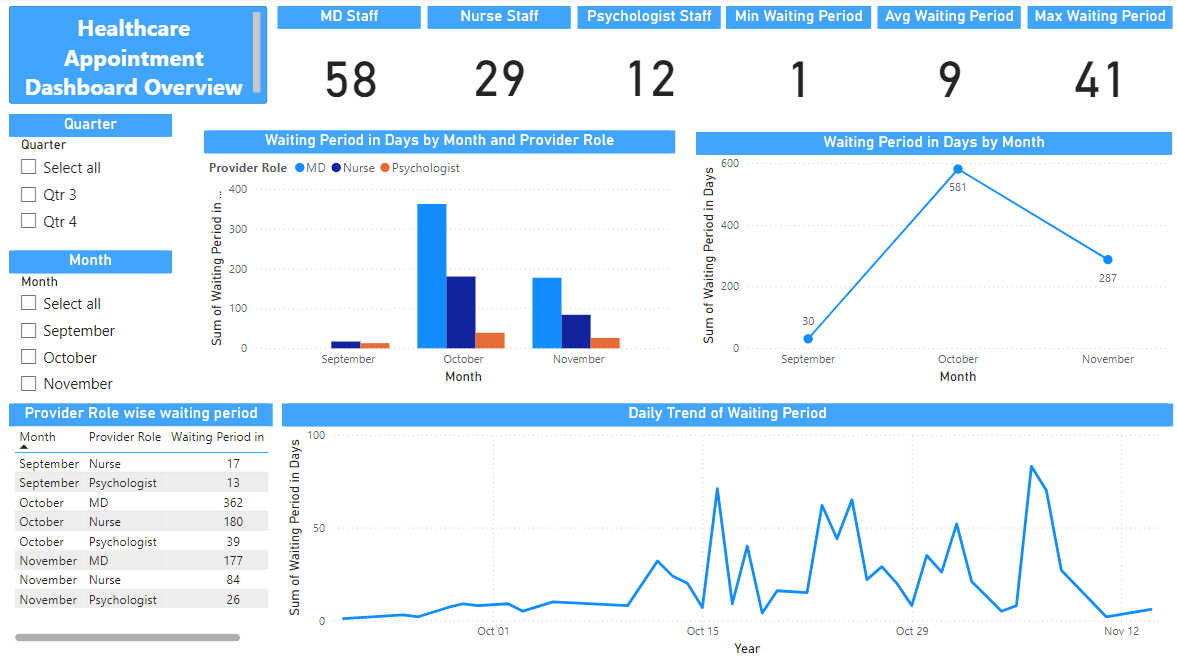

The page's visual inventory and layout, read from the dashboard file:
{"tool":"powerbi","page":{"name":"Dashboard Overview","canvas":[1280,720],"ordinal":0},"visuals":[{"type":"tableEx","title":"Provider Role wise waiting period","fields":{"Values":["Appointment Scheduling Cleaned Data.Appointment date.Variation.Date Hierarchy.Month","Appointment Scheduling Cleaned Data.Provider Role","Sum(Appointment Scheduling Cleaned Data.Waiting Period in Days)"]},"box":[16.2,438.8,285,262.3],"z":0},{"type":"clusteredColumnChart","title":"Waiting Period in Days by Month and Provider Role","fields":{"Category":["Appointment Scheduling Cleaned Data.Appointment date.Variation.Date Hierarchy.Month"],"Series":["Appointment Scheduling Cleaned Data.Provider Role"],"Y":["Sum(Appointment Scheduling Cleaned Data.Waiting Period in Days)"]},"box":[226.8,143.6,508.4,277.8],"z":1000},{"type":"card","title":"Avg Waiting Period","fields":{"Values":["Avg(Appointment Scheduling Cleaned Data.Waiting Period in Days)"]},"box":[953.7,9.4,155,124.7],"z":2000},{"type":"card","title":"MD Staff","fields":{"Values":["Appointment Scheduling Cleaned Data.KPIValue"]},"box":[306.8,9.4,155,124.7],"z":3000},{"type":"card","title":"Nurse Staff","fields":{"Values":["Appointment Scheduling Cleaned Data.KPIProviderRole"]},"box":[468,9.4,155,122.8],"z":4000},{"type":"card","title":"Psychologist Staff","fields":{"Values":["Appointment Scheduling Cleaned Data.KPIProviderRole"]},"box":[629.3,9.4,155,122.8],"z":5000},{"type":"lineChart","title":"Waiting Period in Days by Month","fields":{"Y":["Sum(Appointment Scheduling Cleaned Data.Waiting Period in Days)"],"Category":["Appointment Scheduling Cleaned Data.Appointment date.Variation.Date Hierarchy.Month"]},"box":[757.8,145.5,514,275.9],"z":6000},{"type":"lineChart","title":"Daily Trend of Waiting Period","fields":{"Y":["Sum(Appointment Scheduling Cleaned Data.Waiting Period in Days)"],"Category":["Appointment Scheduling Cleaned Data.Appointment date.Variation.Date Hierarchy.Year","Appointment Scheduling Cleaned Data.Appointment date.Variation.Date Hierarchy.Quarter","Appointment Scheduling Cleaned Data.Appointment date.Variation.Date Hierarchy.Month","Appointment Scheduling Cleaned Data.Appointment date.Variation.Date Hierarchy.Day"]},"box":[310.9,438.8,961.8,276.9],"z":7000},{"type":"card","title":"Max Waiting Period","fields":{"Values":["Max(Appointment Scheduling Cleaned Data.Waiting Period in Days)"]},"box":[1115,9.4,156.9,124.7],"z":8000},{"type":"card","title":"Min Waiting Period","fields":{"Values":["Min(Appointment Scheduling Cleaned Data.Waiting Period in Days)"]},"box":[790.6,9.4,156.9,124.7],"z":9000},{"type":"slicer","title":"Month","fields":{"Values":["Appointment Scheduling Cleaned Data.Appointment date.Variation.Date Hierarchy.Month"]},"box":[15.4,273.2,175.7,164.4],"z":10000},{"type":"slicer","title":"Quarter","fields":{"Values":["Appointment Scheduling Cleaned Data.Appointment date.Variation.Date Hierarchy.Quarter"]},"box":[15.4,125.8,175.7,134.2],"z":11000},{"type":"textbox","box":[16.2,9.7,278.5,105.2],"z":12000}]}

Visuals, with their boxes in screenshot pixels (x1, y1, x2, y2), scaled from the page's 1280x720 canvas onto the 1177x657 screenshot:
"Provider Role wise waiting period" tableEx: x1=15, y1=400, x2=277, y2=640
"Waiting Period in Days by Month and Provider Role" clusteredColumnChart: x1=209, y1=131, x2=676, y2=385
"Avg Waiting Period" card: x1=877, y1=9, x2=1019, y2=122
"MD Staff" card: x1=282, y1=9, x2=425, y2=122
"Nurse Staff" card: x1=430, y1=9, x2=573, y2=121
"Psychologist Staff" card: x1=579, y1=9, x2=721, y2=121
"Waiting Period in Days by Month" lineChart: x1=697, y1=133, x2=1169, y2=385
"Daily Trend of Waiting Period" lineChart: x1=286, y1=400, x2=1170, y2=653
"Max Waiting Period" card: x1=1025, y1=9, x2=1170, y2=122
"Min Waiting Period" card: x1=727, y1=9, x2=871, y2=122
"Month" slicer: x1=14, y1=249, x2=176, y2=399
"Quarter" slicer: x1=14, y1=115, x2=176, y2=237
textbox: x1=15, y1=9, x2=271, y2=105
